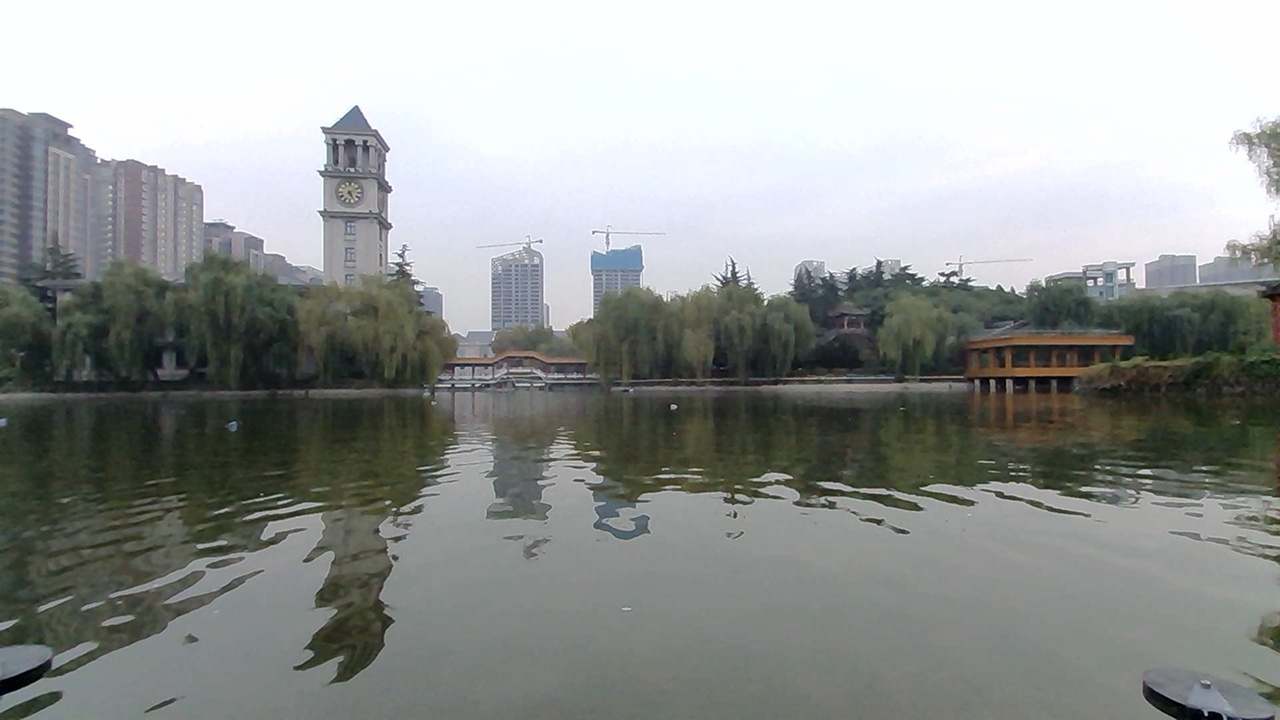bottle: (216, 415, 250, 437), (658, 395, 694, 414)
